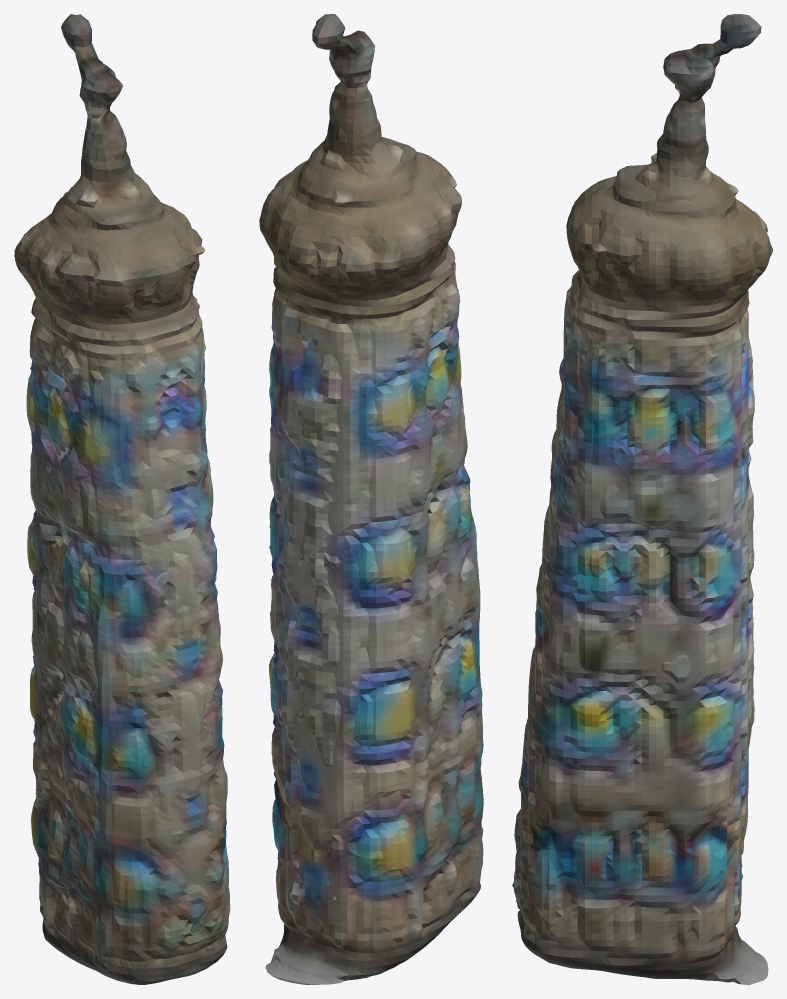
File: luminaria-turca.glb
The picture shows the model from 3 angles, left to right: view 1: azimuth 30°, elevation 25°; view 2: azimuth 150°, elevation 25°; view 3: azimuth 270°, elevation 25°; orthographic projection. The views are drawn at different scales.
Visible parts, largest first — view 1: geometry_0; view 2: geometry_0; view 3: geometry_0.
Part boxes in pixels (x1,y1,x2,y2): geometry_0: (14, 14, 230, 984); geometry_0: (259, 14, 483, 984); geometry_0: (512, 14, 772, 984).
Size of the model in its own units: 0.1787 by 1 by 0.2496.
